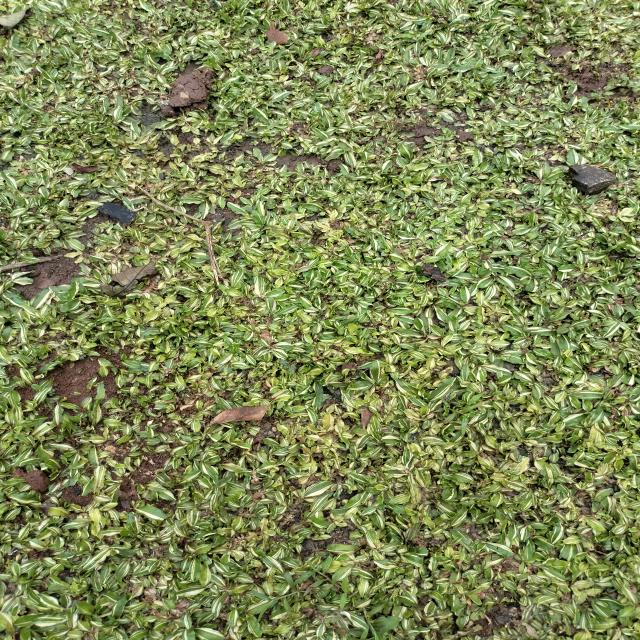bayi: (72, 408, 79, 413), (82, 414, 88, 419), (312, 225, 317, 230)
rambat atas: (248, 589, 306, 620), (446, 392, 480, 436), (305, 558, 341, 588), (391, 29, 439, 43), (362, 606, 380, 640), (262, 48, 289, 65)
tunggang tengah: (280, 359, 298, 375)
